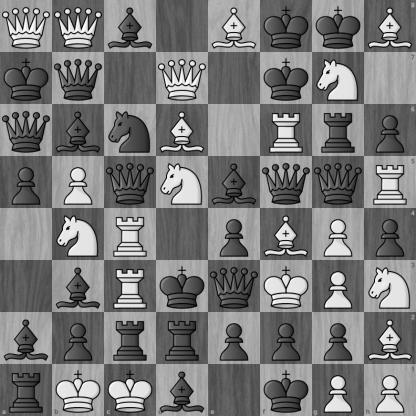B: (364, 0, 416, 52), (364, 312, 416, 364), (157, 105, 208, 156), (209, 1, 260, 52), (261, 209, 312, 260)
K: (52, 364, 104, 416), (104, 364, 156, 416), (261, 261, 312, 312)
N: (364, 260, 416, 312), (53, 209, 104, 260), (157, 157, 208, 208), (313, 53, 364, 104)
P: (312, 364, 364, 416), (364, 364, 416, 416), (53, 157, 104, 208), (313, 209, 364, 260), (313, 261, 364, 312)
Q: (1, 1, 52, 52), (53, 1, 104, 52), (157, 53, 208, 104)
R: (364, 156, 416, 209), (105, 209, 156, 260), (105, 261, 156, 312), (261, 105, 312, 156)
b: (156, 364, 209, 416), (1, 313, 52, 364), (53, 105, 104, 156), (53, 261, 104, 312), (105, 1, 156, 52), (209, 157, 260, 208)
board: (0, 0, 415, 415)
k: (260, 364, 312, 416), (1, 53, 52, 104), (157, 261, 208, 312), (261, 1, 312, 52), (261, 53, 312, 104), (313, 1, 364, 52)
n: (105, 105, 156, 156)
p: (364, 104, 416, 156), (364, 209, 416, 260), (1, 157, 52, 208), (53, 313, 104, 364), (209, 209, 260, 260), (209, 313, 260, 364), (261, 313, 312, 364), (313, 313, 364, 364)
q: (1, 105, 52, 156), (53, 53, 104, 104), (105, 157, 156, 208), (209, 261, 260, 312), (261, 157, 312, 208), (313, 157, 364, 208)
r: (0, 364, 52, 416), (105, 313, 156, 364), (157, 313, 208, 364), (313, 105, 364, 156)
